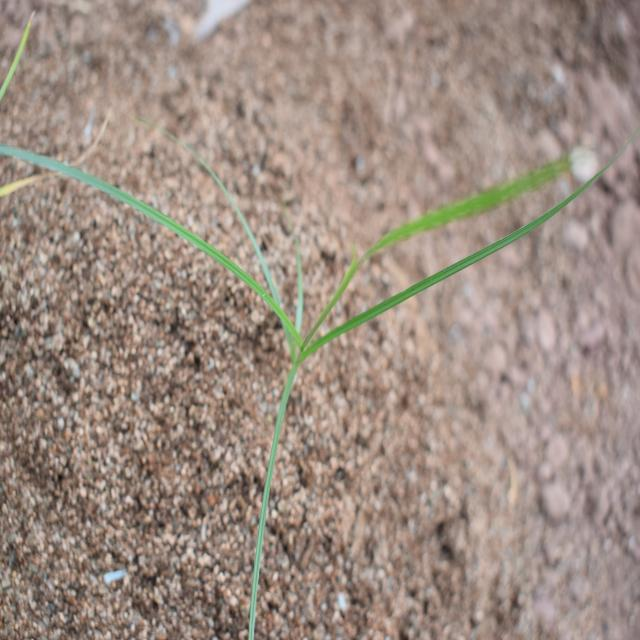sedge: (25, 88, 582, 524)
